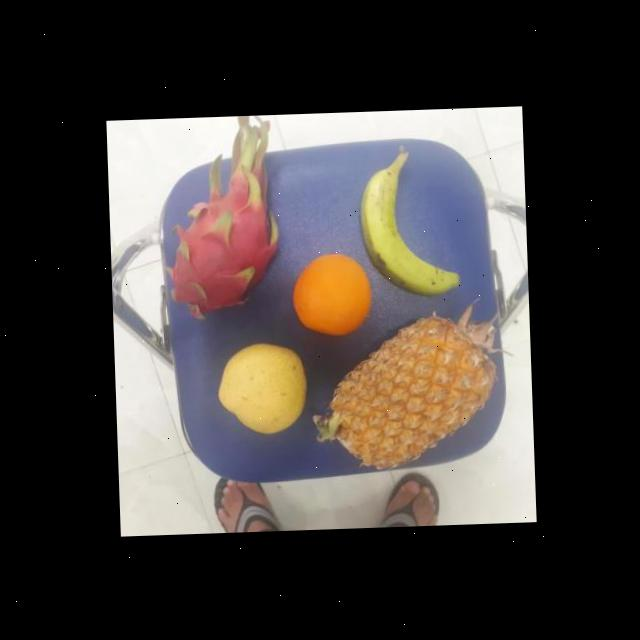banana: (359, 156, 449, 294)
orange: (289, 250, 374, 334)
pear: (214, 339, 310, 434)
pineapple: (322, 314, 504, 468)
pitaya: (159, 150, 283, 316)
